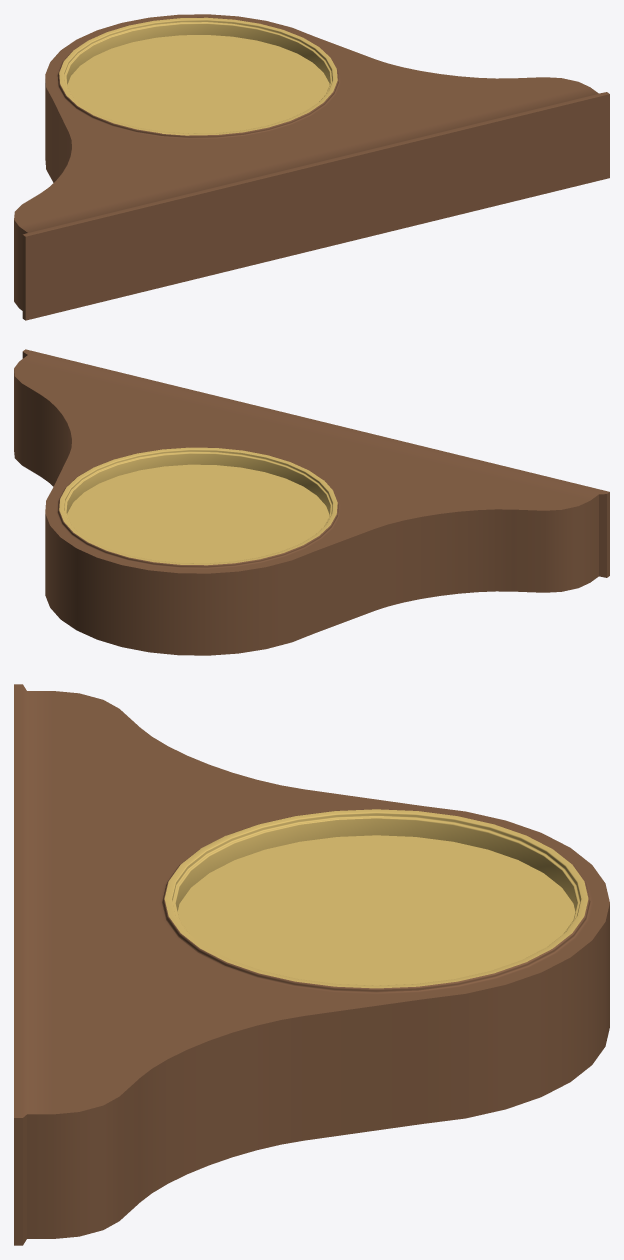
File: clock.fbx
3 renders of one model, top to bottom at view 1: azimuth 30°, elevation 25°; view 2: azimuth 150°, elevation 25°; view 3: azimuth 270°, elevation 25°, orthographic. The views are drawn at different scales.
Visible parts, largest first — view 1: Cylinder, Cylinder.001; view 2: Cylinder, Cylinder.001; view 3: Cylinder, Cylinder.001.
Boxes of the visible parts, x1=… form: Cylinder: x1=14, y1=14, x2=609, y2=320; Cylinder.001: x1=59, y1=17, x2=337, y2=135; Cylinder: x1=14, y1=349, x2=609, y2=655; Cylinder.001: x1=59, y1=447, x2=337, y2=565; Cylinder: x1=14, y1=684, x2=609, y2=1245; Cylinder.001: x1=164, y1=809, x2=588, y2=988.
Bounding box in the file's own units: 145 × 20.23 × 84.13.
